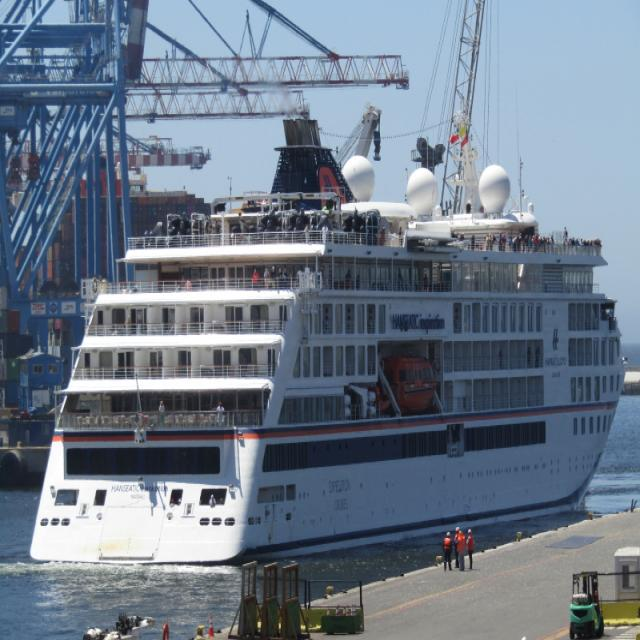cruises: (26, 118, 632, 554)
